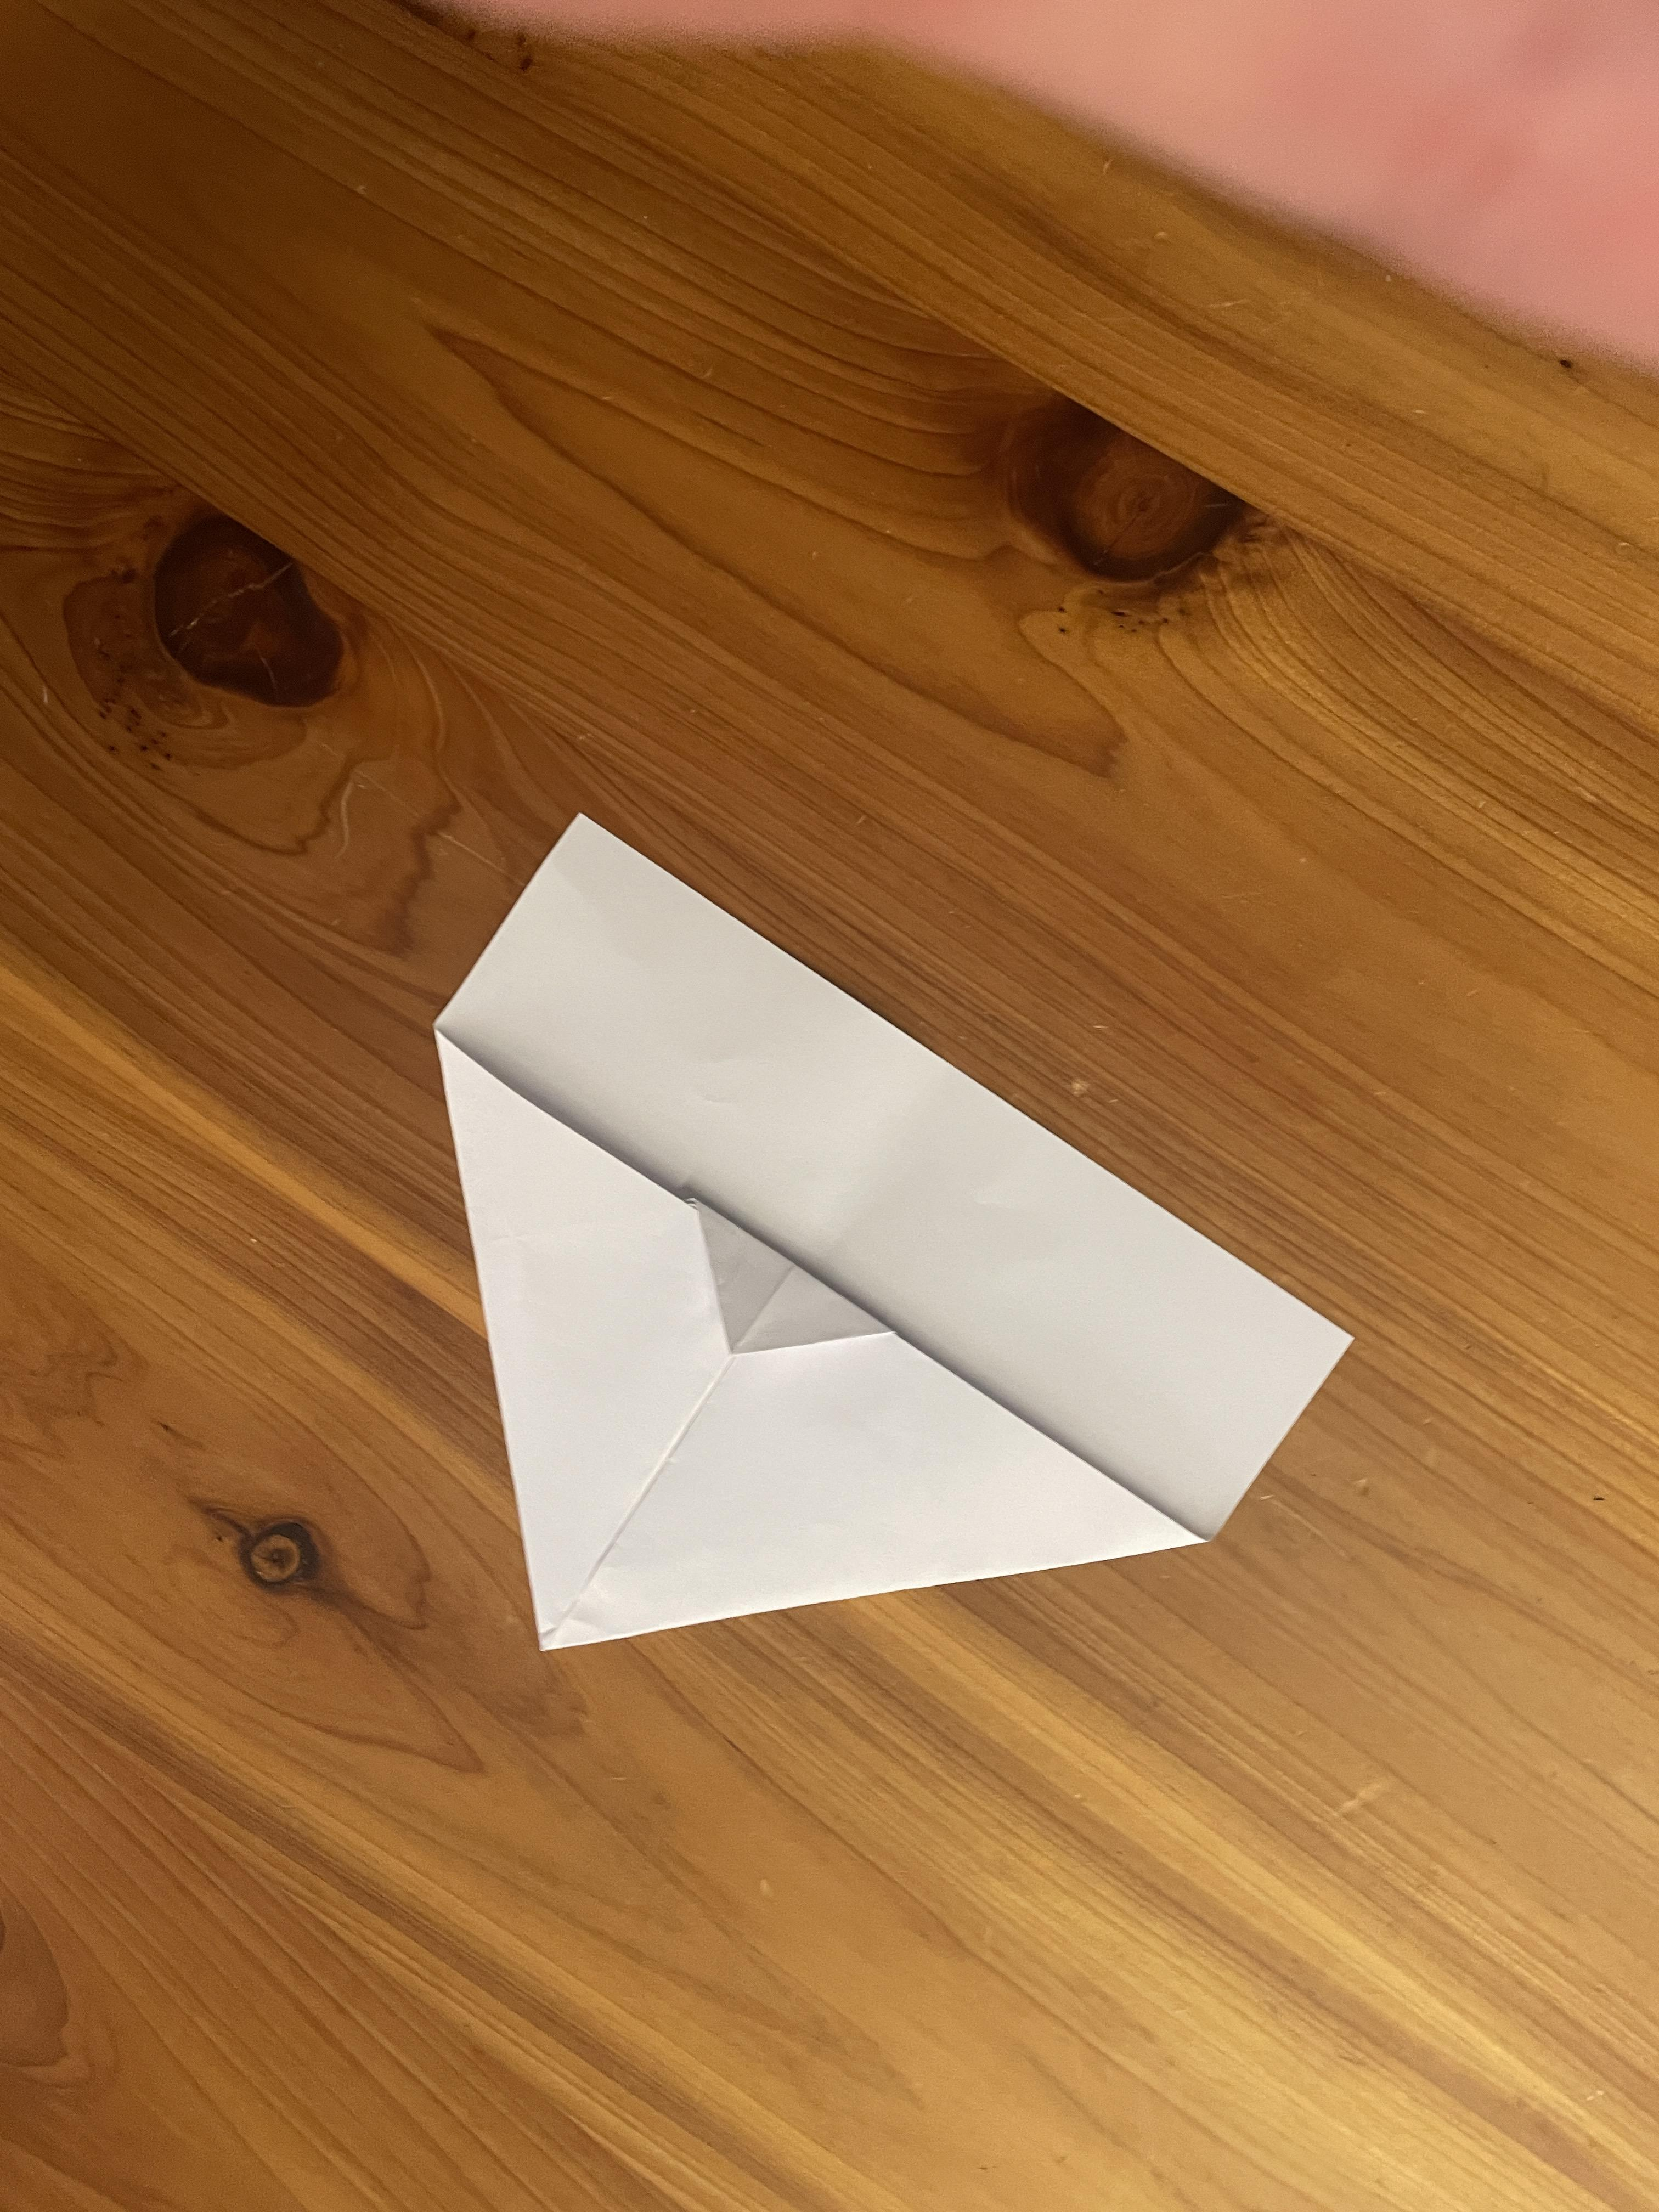shape_2: (71, 637, 1518, 1818)
